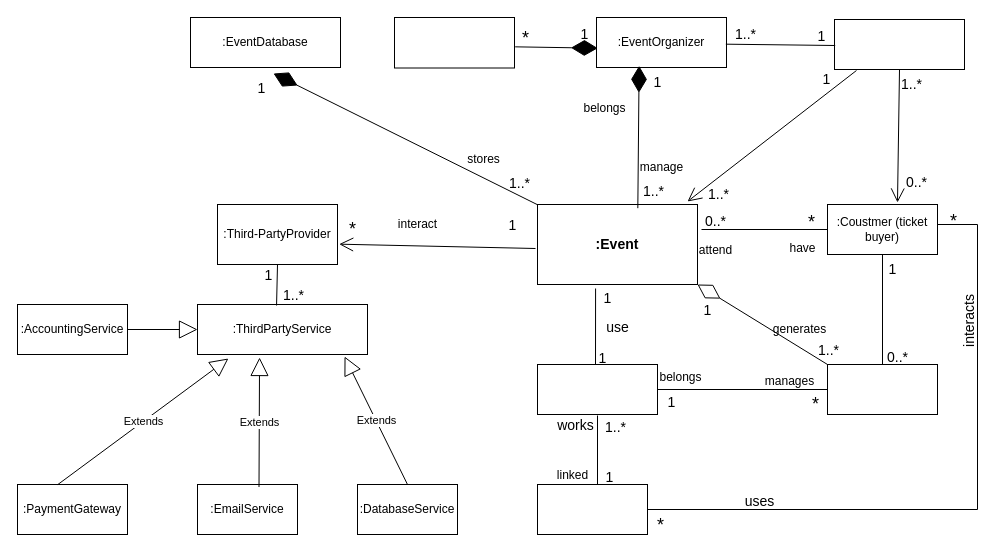
Image size: 1001x560. Some labels were removed from this diagram. Here are the shapes that lost their labels. From the top down, the centre of each, then its label:
At [454,42]: ":OrganizerDashboard".
At [899,44]: ":Frontend".
At [597,389]: ":TicketSystem".
At [882,389]: ":Ticket".
At [592,509]: ":PaymentSystem".
